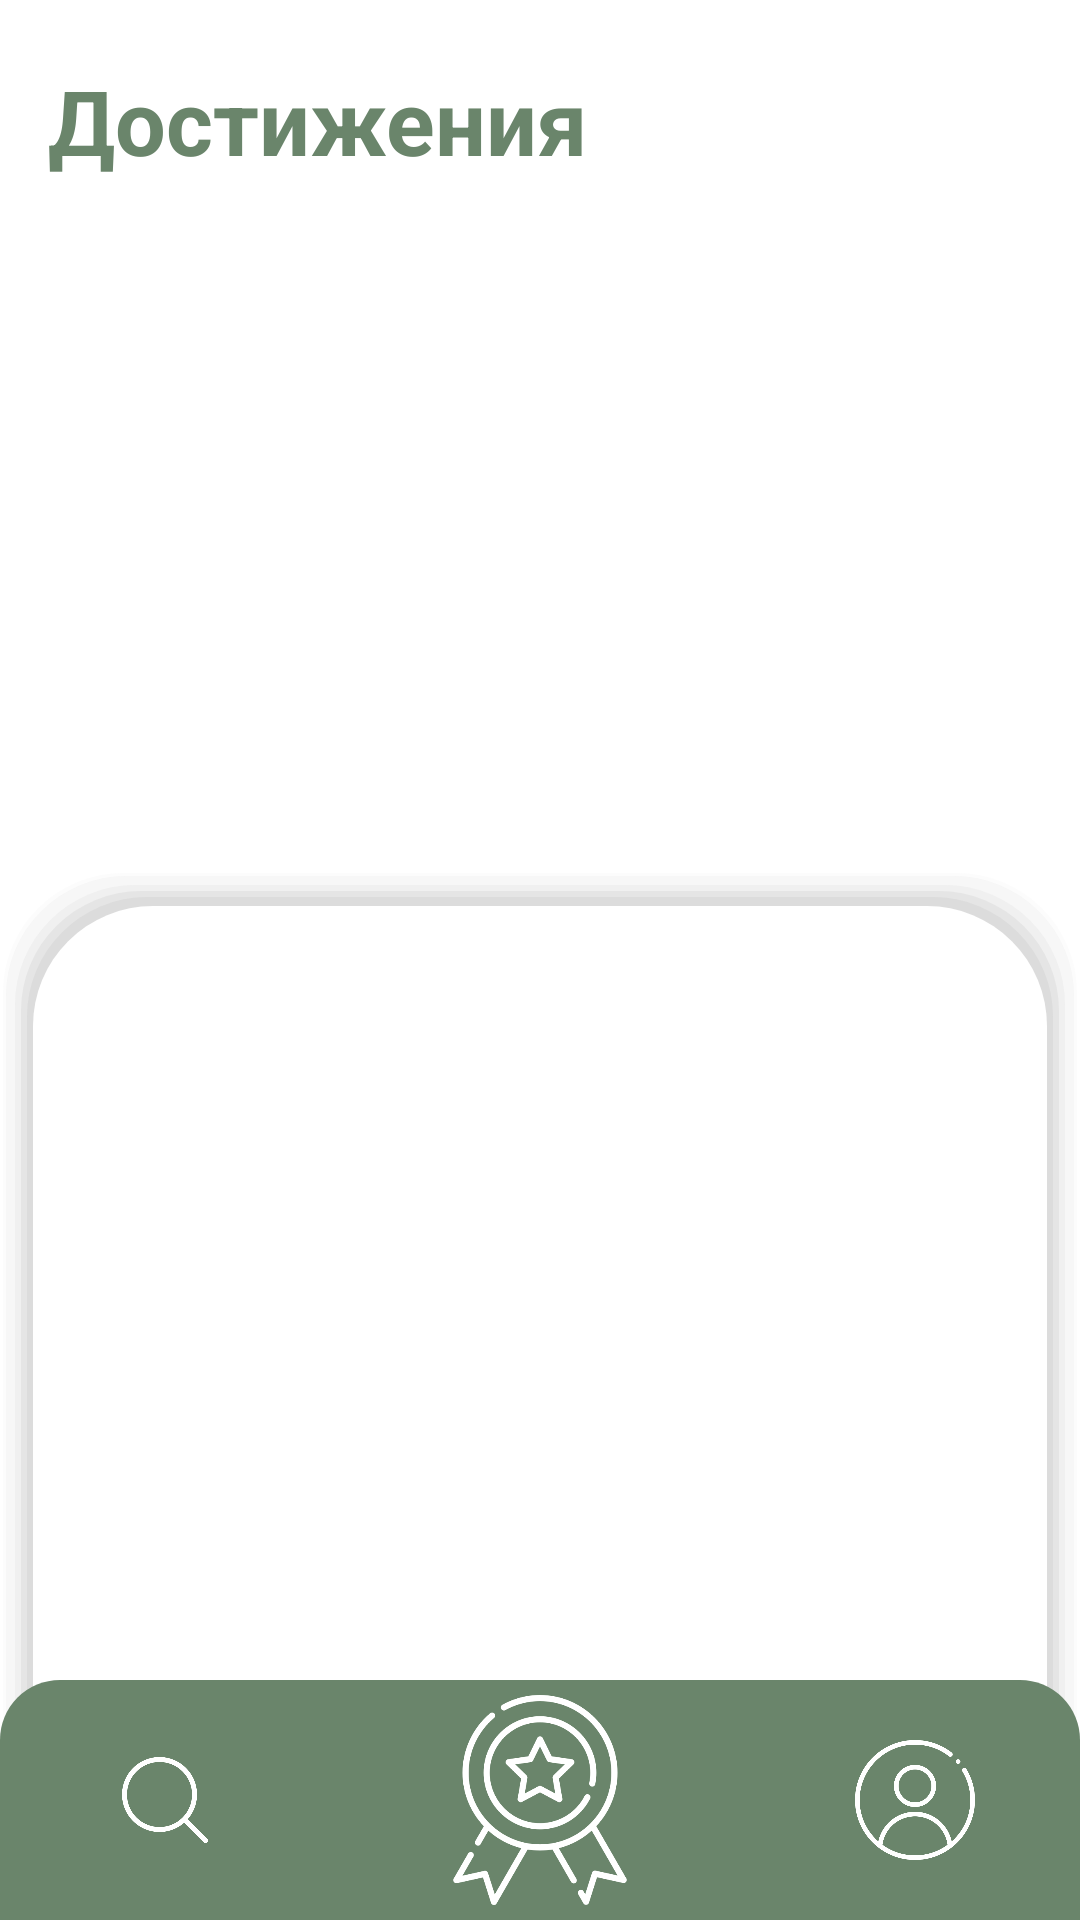

Screen size 1080*1920. Icon name, then its box in pixels as (x1, y1, x2, y2):
medal: (453, 1695, 627, 1905)
search: (122, 1757, 208, 1843)
user: (855, 1740, 975, 1860)
